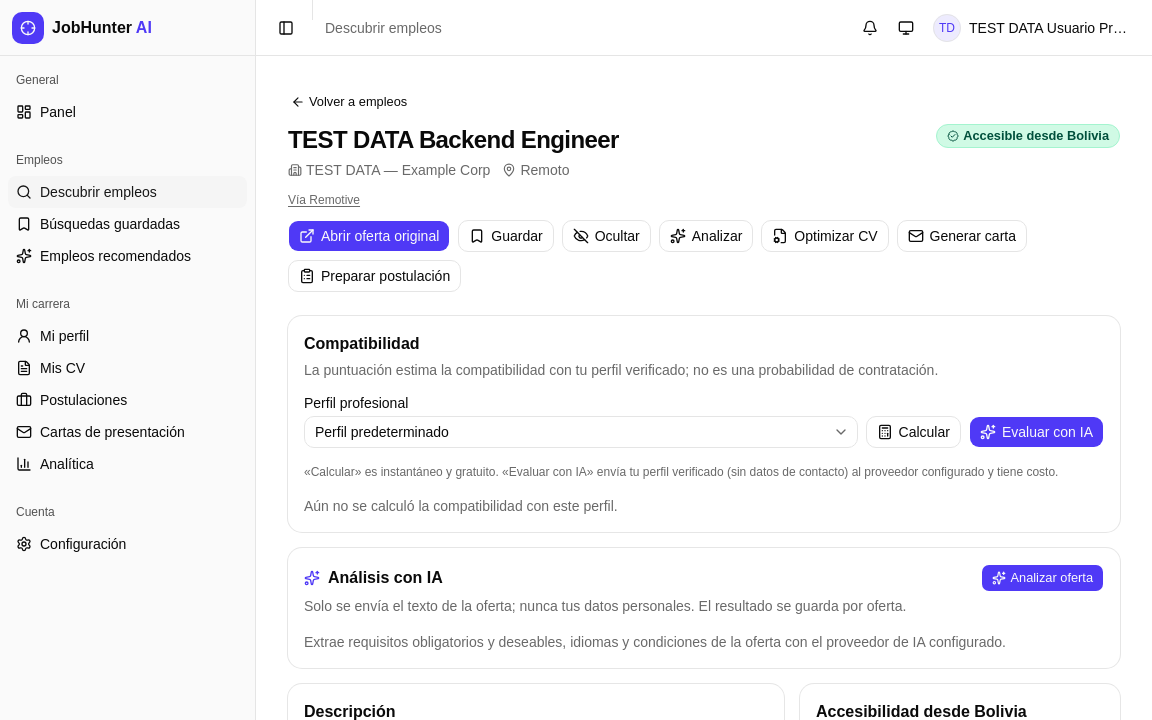
Test case: Compatibilidad › runs the AI-assisted evaluation with polling
Click the button "Evaluar con IA" at point(1036, 432), box [969, 416, 1104, 448]
(page scrolled)
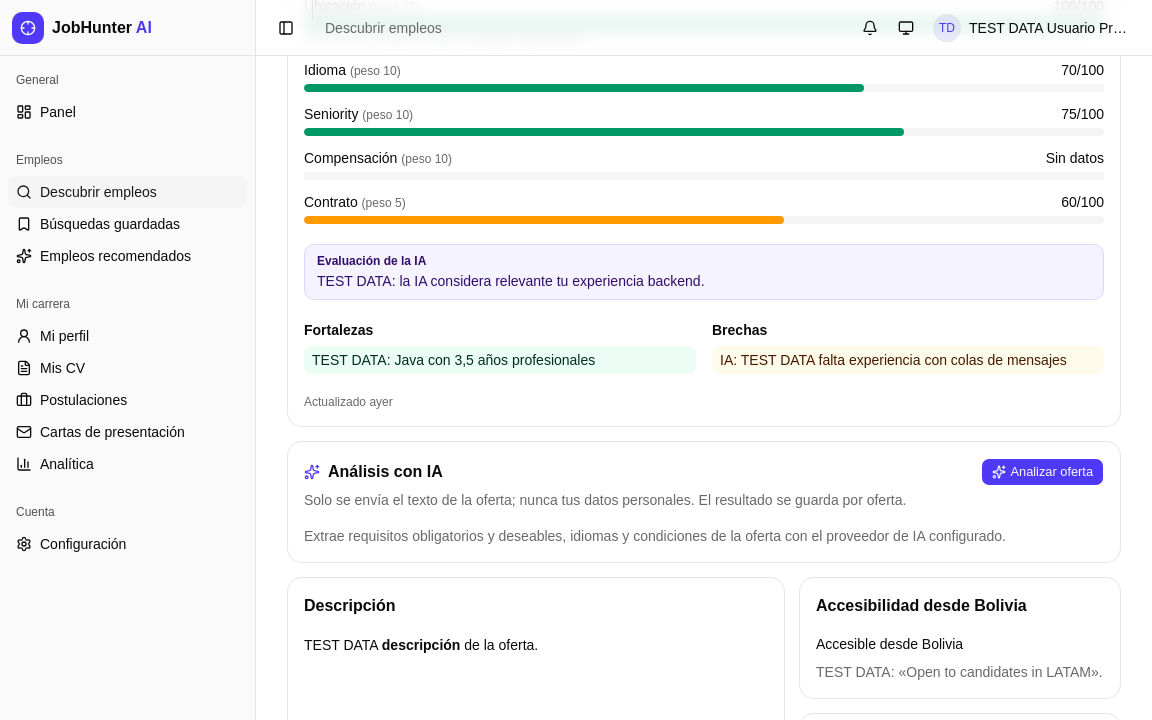
Now the text "TEST DATA: la IA considera relevante tu experiencia backend." is shown, box [317, 273, 704, 289]
Now the list item "IA: TEST DATA falta experiencia con colas de mensajes" is shown, box [712, 346, 1104, 374]
